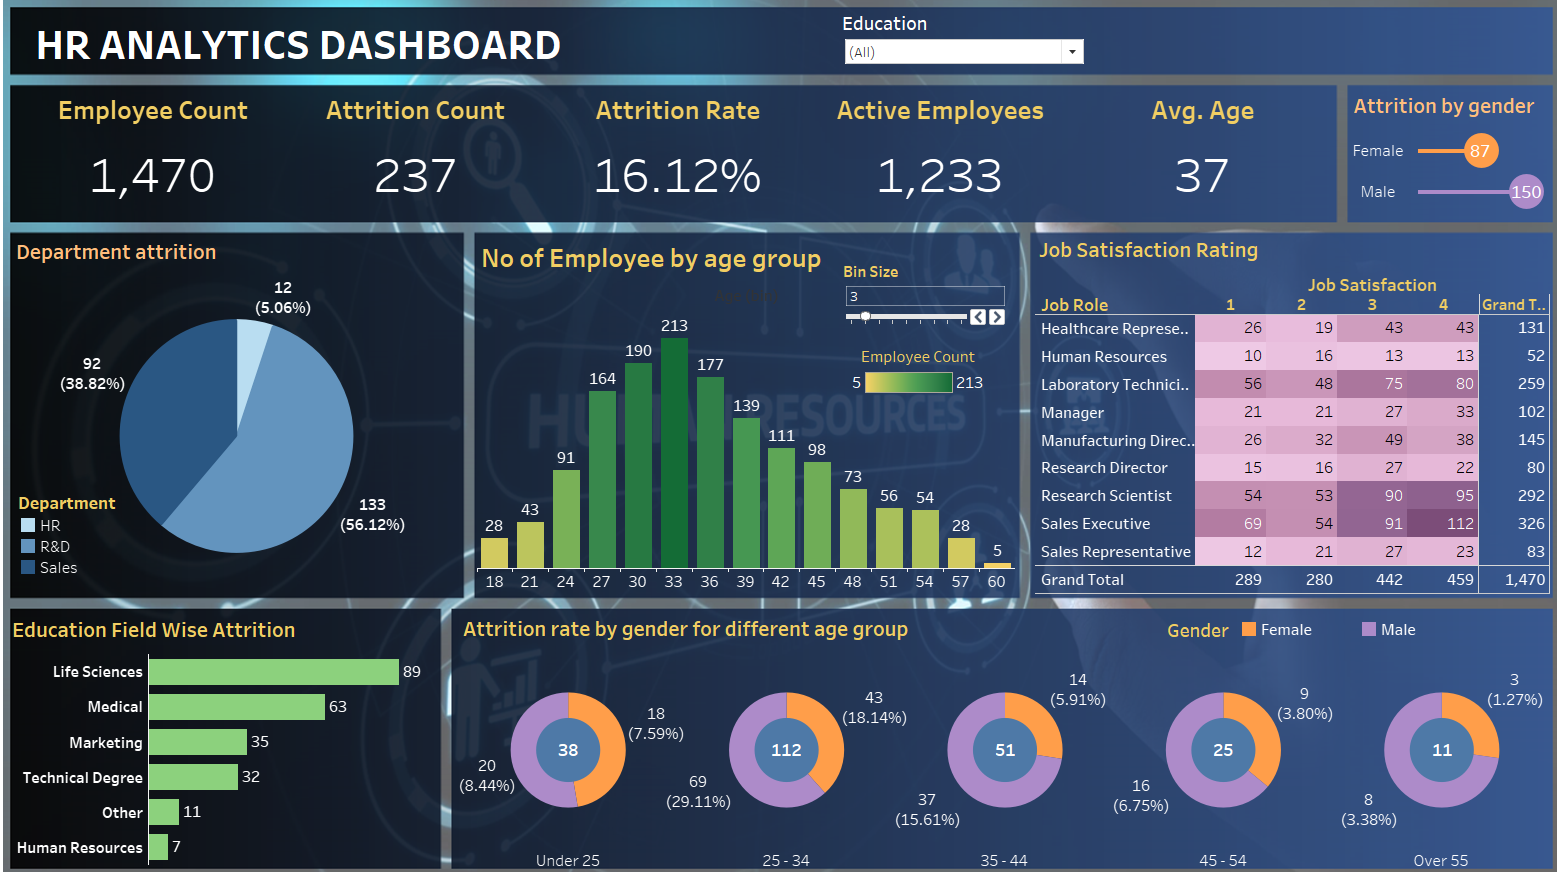

Layout of this report page (visuals, bound fields, positions):
{"tool":"tableau","page":{"name":"HR ANALYTICS DASHBOARD ","canvas":[1580,900],"ordinal":0},"visuals":[{"type":"image","param":"C:/Users/ajink/Downloads/HR background.png","box":[8,8,1564,884]},{"type":"filter","title":"Department attrition","param":"[federated.1js5dbk0ttbwfl1al8xtt0p0yszo].[none:Education:nk]","box":[851,22,245,71]},{"type":"text","box":[41,27,651,55]},{"type":"worksheet","title":"KPI","mark":"Automatic","box":[31,98,1312,135]},{"type":"worksheet","title":"Attrition by gender","mark":"Automatic","rows":["Gender"],"cols":["Calculation_12103464391323648","Calculation_12103464391323648"],"box":[1347,99,212,136]},{"type":"worksheet","title":"Job Satisfaction Rating ","mark":"Square","rows":["Job Role"],"cols":["Job Satisfaction"],"box":[1044,243,516,363]},{"type":"worksheet","title":"Department attrition","mark":"Pie","box":[21,245,449,363]},{"type":"worksheet","title":"No of Employee by age group","mark":"Automatic","rows":["Employee Count"],"cols":["Age (bin)"],"box":[486,248,538,357]},{"type":"parameter","param":"[Parameters].[Parameter 1]","box":[852,273,165,72]},{"type":"legend","title":"No of Employee by age group","param":"[federated.1js5dbk0ttbwfl1al8xtt0p0yszo].[sum:Employee Count:qk]","box":[857,358,140,88]},{"type":"legend","title":"Department attrition","param":"[federated.1js5dbk0ttbwfl1al8xtt0p0yszo].[none:Department:nk]","box":[27,503,140,96]},{"type":"worksheet","title":"Attrition rate by gender for different age group","mark":"Pie","rows":["Calculation_1285496259675807745","Calculation_1285496259675807745"],"cols":["CF_age band"],"box":[468,622,1092,262]},{"type":"worksheet","title":"Education Field Wise Attrition ","mark":"Automatic","rows":["Education Field"],"cols":["Calculation_12103464391323648"],"box":[17,623,430,254]},{"type":"legend","title":"Attrition rate by gender for different age group","param":"[federated.1js5dbk0ttbwfl1al8xtt0p0yszo].[none:Gender:nk]","box":[1176,631,351,32]}]}

Visuals, with their boxes in screenshot pixels (x1, y1, x2, y2), scaled from the page's 1580x900 canvas onto the 1557x872 screenshot:
image: <box>8,8,1549,864</box>
"Department attrition" filter: <box>839,21,1080,90</box>
text: <box>40,26,682,79</box>
"KPI" worksheet: <box>31,95,1323,226</box>
"Attrition by gender" worksheet: <box>1327,96,1536,228</box>
"Job Satisfaction Rating " worksheet (Square marks): <box>1029,235,1537,587</box>
"Department attrition" worksheet (Pie marks): <box>21,237,463,589</box>
"No of Employee by age group" worksheet: <box>479,240,1009,586</box>
parameter: <box>840,265,1002,334</box>
"No of Employee by age group" legend: <box>845,347,982,432</box>
"Department attrition" legend: <box>27,487,165,580</box>
"Attrition rate by gender for different age group" worksheet (Pie marks): <box>461,603,1537,856</box>
"Education Field Wise Attrition " worksheet: <box>17,604,440,850</box>
"Attrition rate by gender for different age group" legend: <box>1159,611,1505,642</box>
